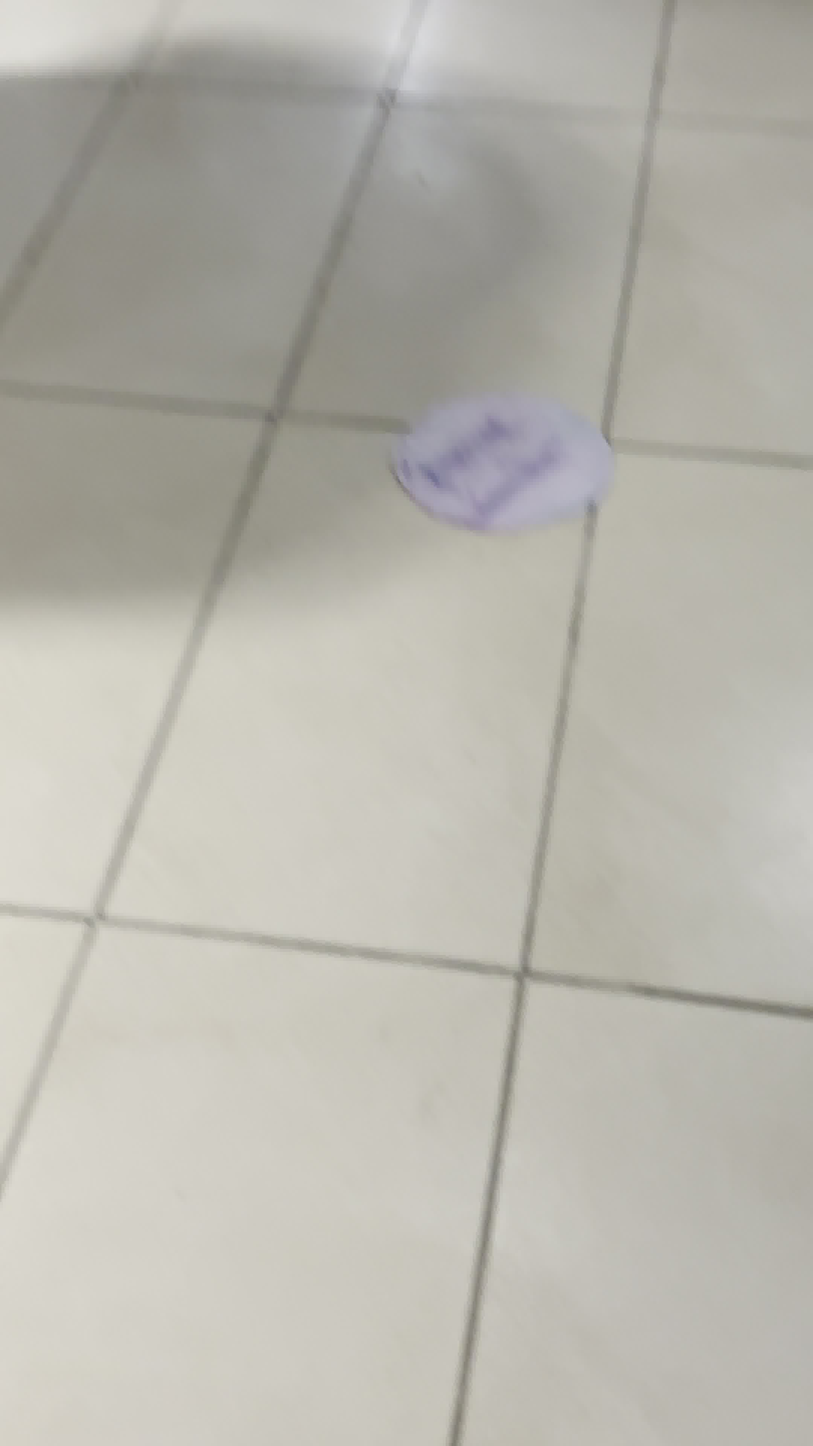Target: (387, 392, 618, 532)
